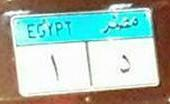1: (48, 52, 60, 83)
daal: (117, 51, 133, 77)
